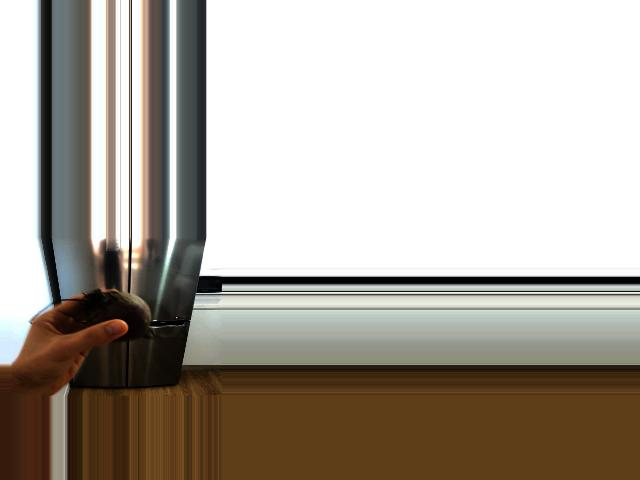beet: (30, 289, 163, 341)
